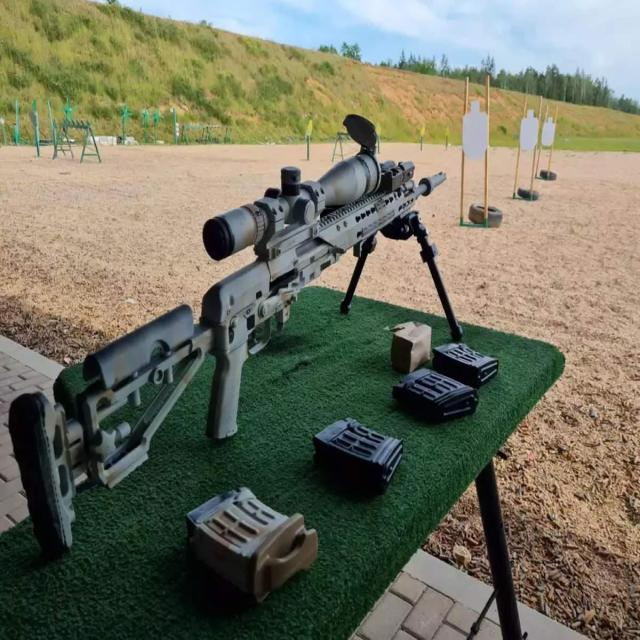weapon: (7, 117, 465, 573)
